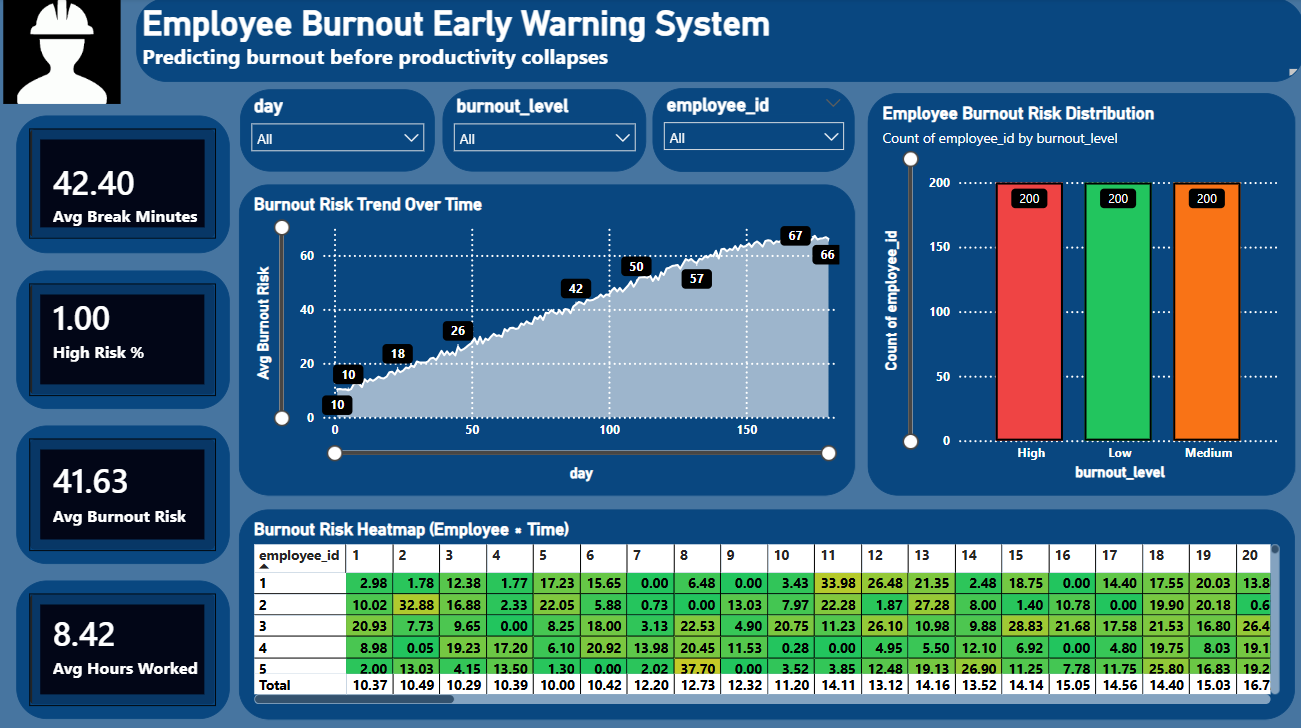

What the dashboard file says about the page in this screenshot:
{"tool":"powerbi","page":{"name":"Page 1","canvas":[1280,720],"ordinal":0},"visuals":[{"type":"cardVisual","fields":{"Data":["burnout_for_powerbi.Avg Break Minutes"]},"box":[16,115.3,209.8,135],"z":0},{"type":"cardVisual","fields":{"Data":["burnout_for_powerbi.Avg Burnout Risk"]},"box":[16,419.6,209.8,136.2],"z":1000},{"type":"cardVisual","fields":{"Data":["burnout_for_powerbi.Avg Hours Worked"]},"box":[16,571.8,209.8,136.2],"z":2000},{"type":"cardVisual","fields":{"Data":["burnout_for_powerbi.High Risk %"]},"box":[16,267.5,209.8,136.2],"z":3000},{"type":"lineChart","title":"Burnout Risk Trend Over Time","fields":{"Y":["burnout_for_powerbi.Avg Burnout Risk"],"Category":["burnout_for_powerbi.day"]},"box":[234.4,182.8,604.9,305.5],"z":4000},{"type":"clusteredColumnChart","title":"Employee Burnout Risk Distribution","fields":{"Category":["burnout_for_powerbi.burnout_level"],"Y":["Count(burnout_for_powerbi.employee_id)"]},"box":[851.5,93.3,419.6,395.1],"z":5000},{"type":"slicer","fields":{"Values":["burnout_for_powerbi.burnout_level"]},"box":[434.4,89.6,200,81],"z":6000},{"type":"slicer","fields":{"Values":["burnout_for_powerbi.employee_id"]},"box":[640.5,88.3,198.8,82.2],"z":7000},{"type":"slicer","fields":{"Values":["burnout_for_powerbi.day"]},"box":[235.6,89.6,191.4,81],"z":8000},{"type":"pivotTable","title":"Burnout Risk Heatmap (Employee × Time)","fields":{"Values":["burnout_for_powerbi.Avg Burnout Risk"],"Rows":["burnout_for_powerbi.employee_id"],"Columns":["burnout_for_powerbi.day"]},"box":[234.4,501.8,1036.8,206.1],"z":9000},{"type":"image","box":[0,0,121.5,104.3],"z":10000},{"type":"textbox","title":"Employee Burnout Early Warning System","box":[133.7,0,1146,82.2],"z":11000}]}

Visuals, with their boxes in screenshot pixels (x1, y1, x2, y2), scaled from the page's 1280x720 canvas onto the 1301x728 screenshot:
cardVisual - burnout_for_powerbi.Avg Break Minutes: 16 117 230 253
cardVisual - burnout_for_powerbi.Avg Burnout Risk: 16 424 230 562
cardVisual - burnout_for_powerbi.Avg Hours Worked: 16 578 230 716
cardVisual - burnout_for_powerbi.High Risk %: 16 270 230 408
"Burnout Risk Trend Over Time" lineChart: 238 185 853 494
"Employee Burnout Risk Distribution" clusteredColumnChart: 865 94 1292 494
slicer - burnout_for_powerbi.burnout_level: 442 91 645 172
slicer - burnout_for_powerbi.employee_id: 651 89 853 172
slicer - burnout_for_powerbi.day: 239 91 434 172
"Burnout Risk Heatmap (Employee × Time)" pivotTable: 238 507 1292 716
image: 0 0 123 105
"Employee Burnout Early Warning System" textbox: 136 0 1300 83
